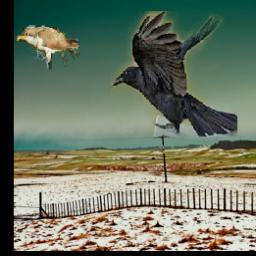Crow: (112, 11, 238, 136)
Cuckoo: (16, 26, 81, 71)
